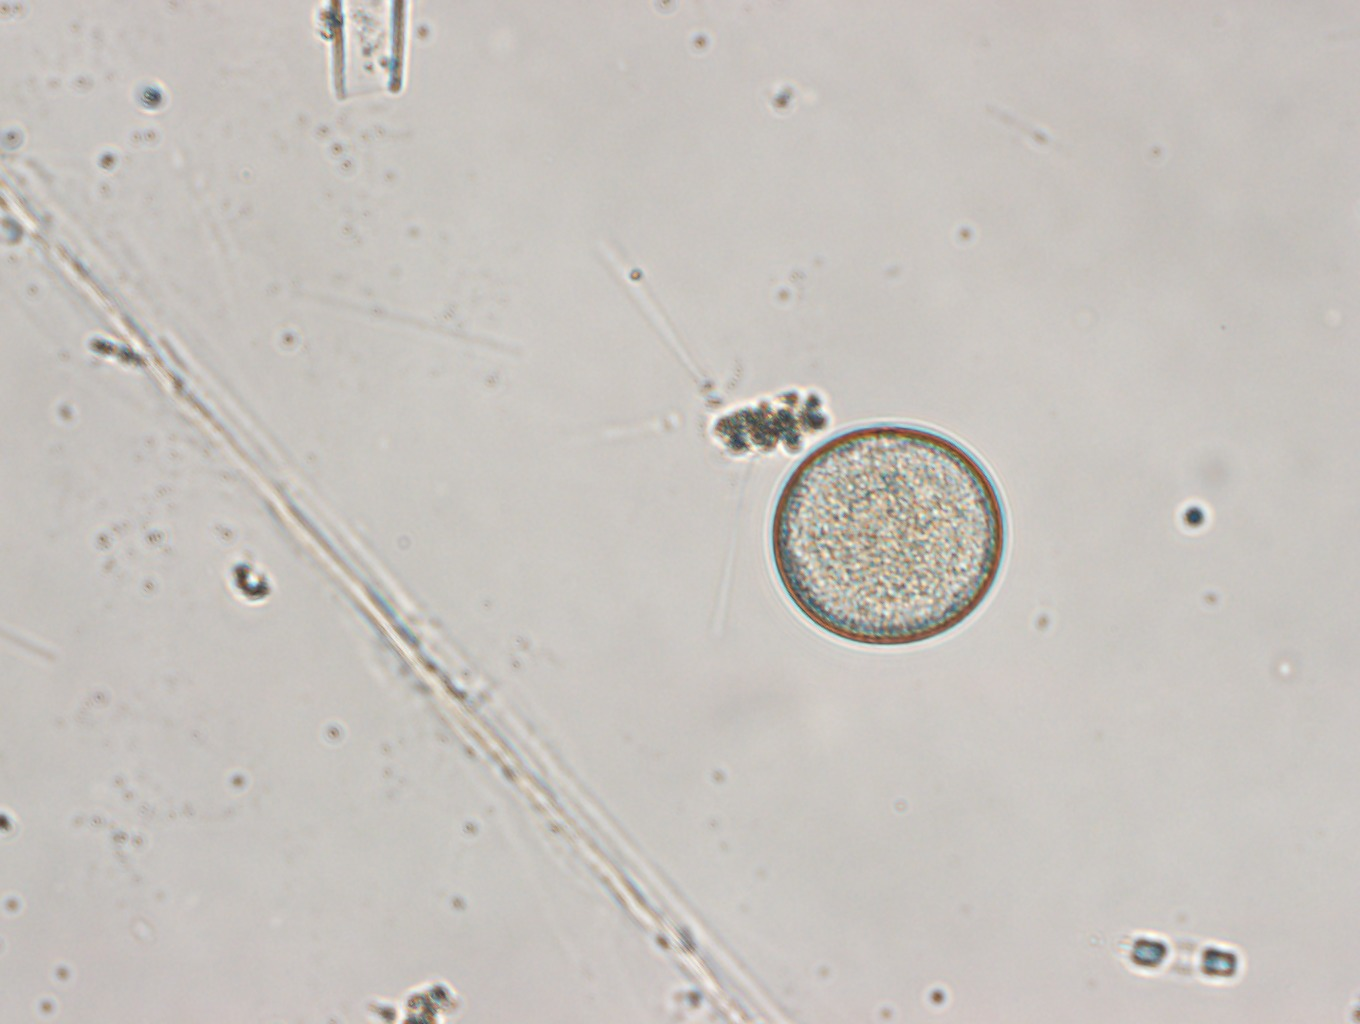coscinodiscus: (765, 425, 1005, 650)
